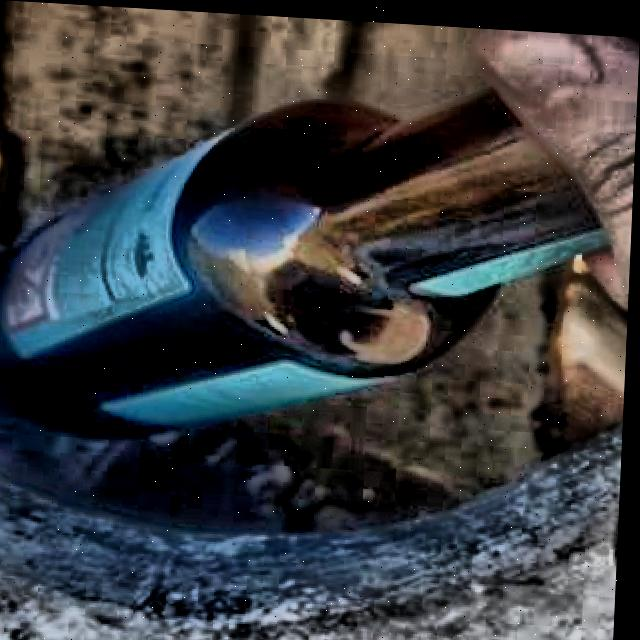glass: (0, 87, 609, 430)
